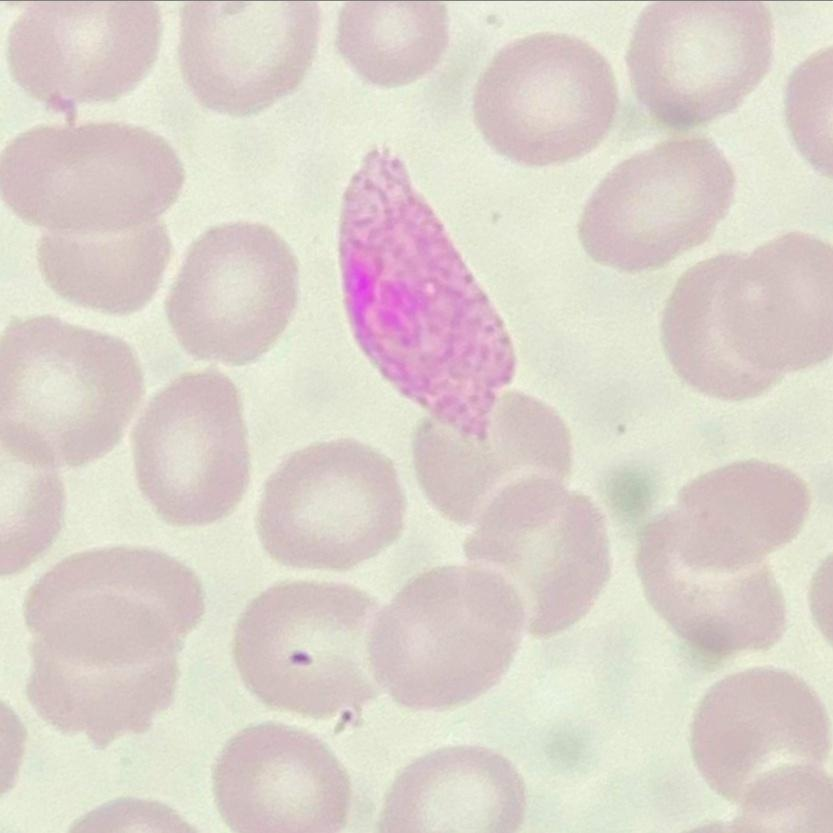Infected: (334, 147, 515, 442)
Uninfected: (22, 542, 203, 742), (461, 474, 608, 640), (366, 564, 528, 710), (0, 315, 145, 471), (232, 579, 387, 722), (1, 119, 185, 235), (411, 390, 565, 526), (640, 522, 791, 657), (256, 438, 406, 573), (579, 139, 733, 269), (170, 219, 303, 368), (131, 371, 253, 528), (655, 459, 810, 580), (473, 35, 617, 164), (661, 255, 790, 399), (691, 666, 827, 797), (628, 2, 771, 124), (715, 231, 833, 374), (7, 4, 161, 109), (178, 2, 322, 114), (212, 726, 355, 833), (35, 216, 173, 318), (375, 744, 524, 831), (335, 3, 448, 87)
